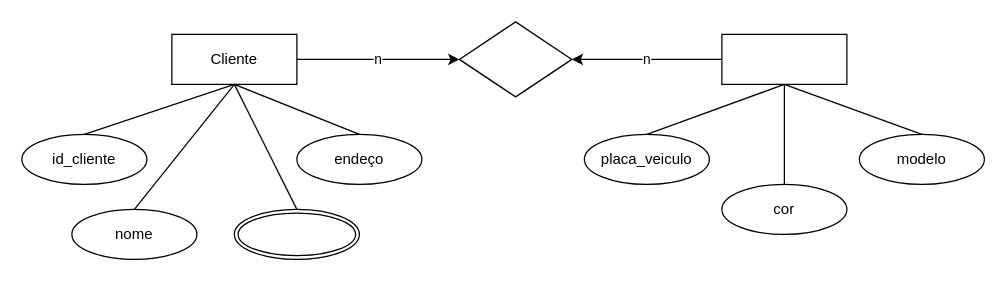
Image size: 1006x281. Some labels were removed from this diagram. The centre of each missing label's shape, as x and y in pixels:
Relationship: pixel 515 59
telefone: pixel 296 233
Veiculo: pixel 784 58
